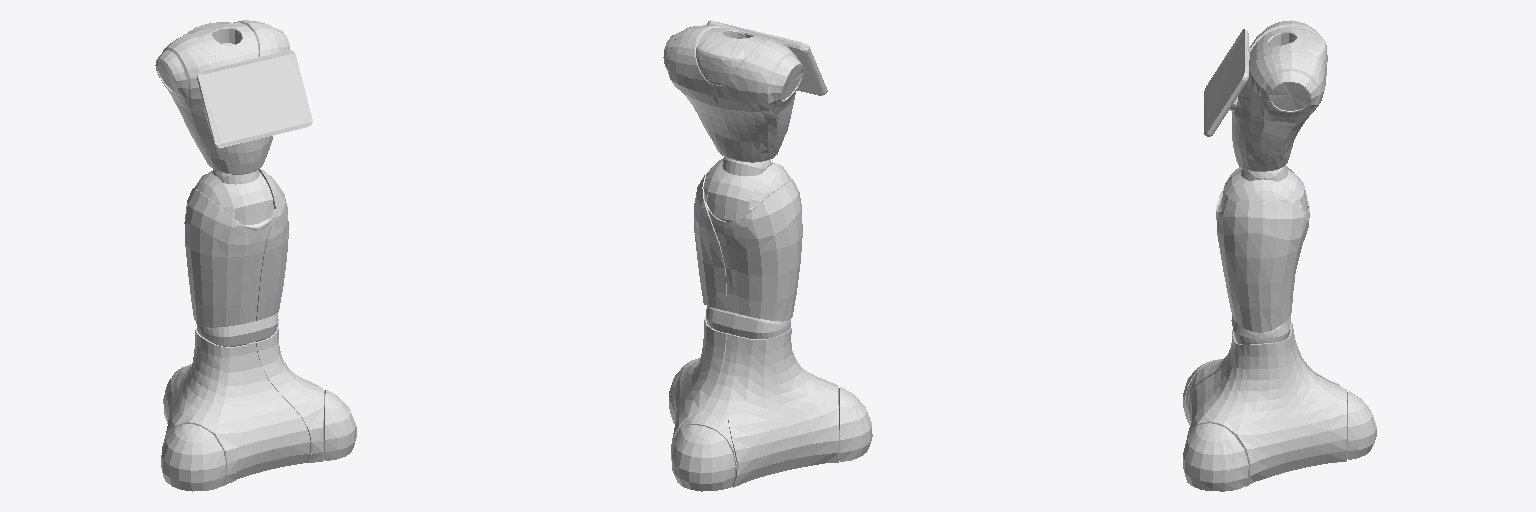
The robot description file, URDF, robot "pepper":
<?xml version="1.0"?>
<robot name="pepper">
    <!-- CONFIGURACIONES VISUALIZACIÓN PIEZAS -->
    <material name="default_material">
        <color rgba="0.9 0.9 0.9 1"/>
    </material>

    <!--#####################################################-->
    <!-- PIEZAS DEL ROBOT -->

    <link name="base">
        <visual>
            <origin xyz="0 0 0" rpy="0 0 0"/> <!-- "xyz" son las coordenadas RELATIVAS (m) de la pieza. Y "rpy" representa la rotación de la pieza en radianes en cada eje -->
            <geometry>
                <mesh filename="package://ros_package/urdf/mesh/base.stl" scale="1 1 1"/> <!--Aqué va la ruta desde el paquete de ROS a la pieza, y sus escalas en cada eje-->
            </geometry>
            <material name="default_material"/>
        </visual>
        <collision>
            <origin xyz="0 0 0" rpy="0 0 0"/>
            <geometry>
                <mesh filename="package://ros_package/urdf/mesh/base.stl" scale="1 1 1"/>
            </geometry>
        </collision>
    </link>

    <link name="lower_body">
        <visual>
            <origin xyz="0 0 0" rpy="0 0 0"/>
            <geometry>
                <mesh filename="package://ros_package/urdf/mesh/lower_body.stl" scale="1 1 1"/>
            </geometry>
            <material name="default_material"/>
        </visual>
        <collision>
            <origin xyz="0 0 0" rpy="0 0 0"/>
            <geometry>
                <mesh filename="package://ros_package/urdf/mesh/lower_body.stl" scale="1 1 1"/>
            </geometry>
        </collision>
    </link>
    <joint name="base_to_lower_body" type="revolute">
        <parent link="base"/>
        <child link="lower_body"/>
        <origin xyz="0 0 0.32" rpy="0 0 0"/>
        <axis xyz="1 0 0"/>
        <limit effort="1000" velocity="0.5" lower="-0.25" upper="0.25"/>
    </joint>

    <link name="torso">
        <visual>
            <origin xyz="0 0 0" rpy="0 0 0"/>
            <geometry>
                <mesh filename="package://ros_package/urdf/mesh/chest.stl" scale="1 1 1"/>
            </geometry>
            <material name="grey">
                <color rgba="0.9 0.9 0.9 1.0"/>
            </material>
        </visual>
        <collision>
            <origin xyz="0 0 0" rpy="0 0 0"/>
            <geometry>
                <mesh filename="package://ros_package/urdf/mesh/chest.stl" scale="1 1 1"/>
            </geometry>
        </collision>
    </link>
    <joint name="lower_body_to_torso" type="fixed">
        <parent link="lower_body"/>
        <child link="torso"/>
        <origin xyz="0 0.02 0.39" rpy="0 0 0"/>
    </joint>

    <!-- BRAZO QUE ROTA
    <link name="brazo">
        <visual>
            <origin xyz="0 0 0" rpy="1.57 0 0"/>
            <geometry>
                <cylinder length="1" radius="0.1"/>
            </geometry>
        </visual>
        <collision>
            <origin xyz="0 0 0" rpy="1.57 0 0"/>
            <geometry>
                <cylinder length="1" radius="0.1"/>
            </geometry>
        </collision>
    </link>
    <joint name="torso_to_brazo" type="revolute">
        <parent link="torso"/>
        <child link="brazo"/>
        <origin xyz="0 0 0.25"/>
        <axis xyz="0 0 1"/>
        <limit effort="1000" velocity="0.5" lower="0" upper="3.14"/>
    </joint>
    -->




</robot>

--- What the picture shows (computed from the rendered views, not written in the file) ---
Views: 3 orthographic renders of the robot side by side, from view 1: azimuth 30°, elevation 25°; view 2: azimuth 150°, elevation 25°; view 3: azimuth 270°, elevation 25°.
Model pepper with 3 links and 2 joints (1 revolute, 1 fixed), rooted at base, posed every joint at zero.
Links seen in each view (by area): view 1: base, torso, lower_body; view 2: base, lower_body, torso; view 3: base, torso, lower_body.
Boxes of the visible links, bbox=[...] form: base: bbox=[161, 313, 356, 491]; torso: bbox=[155, 20, 312, 174]; lower_body: bbox=[184, 169, 288, 327]; base: bbox=[669, 306, 872, 491]; lower_body: bbox=[694, 157, 802, 321]; torso: bbox=[663, 20, 827, 162]; base: bbox=[1183, 316, 1376, 491]; torso: bbox=[1204, 20, 1327, 171]; lower_body: bbox=[1216, 165, 1309, 332].
Bounding box of the posed robot: 0.5042 × 0.454 × 1.06 m (x, y, z).
3 mesh visuals loaded from 3 distinct referenced files (3 binary STL).